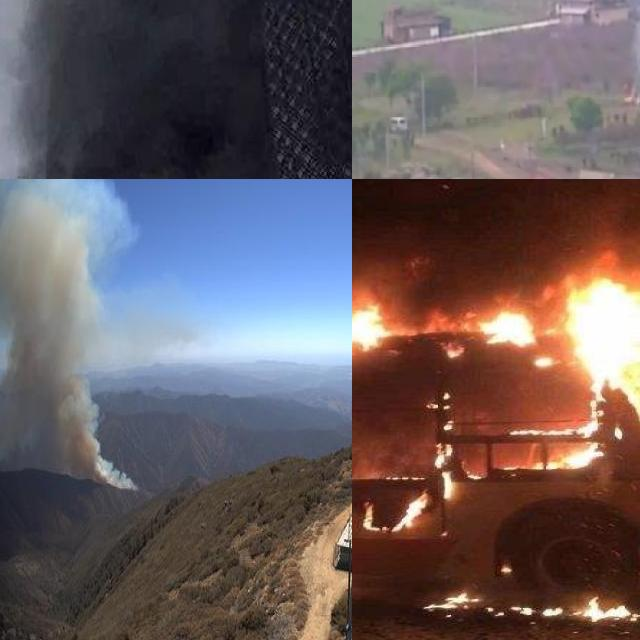fire: (550, 277, 640, 438), (426, 584, 640, 628), (461, 298, 540, 356), (352, 296, 410, 361), (357, 487, 431, 536), (432, 388, 458, 501)
smoke: (0, 0, 274, 179), (0, 179, 142, 493)
